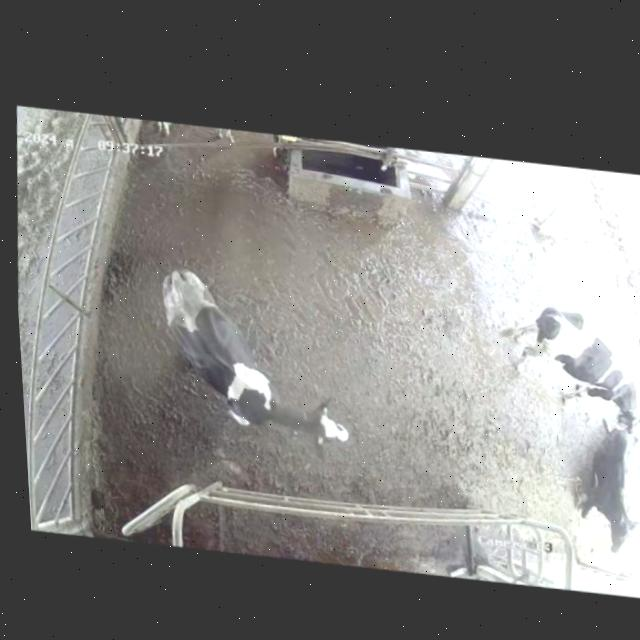lay: (569, 410, 640, 563)
stand: (142, 261, 370, 464), (496, 270, 640, 432)
